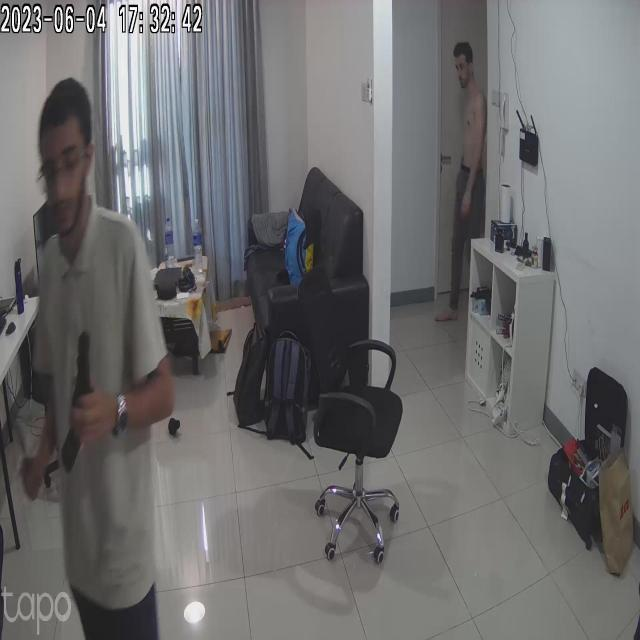Gun: (48, 320, 112, 449)
Knife: (2, 392, 58, 506)
